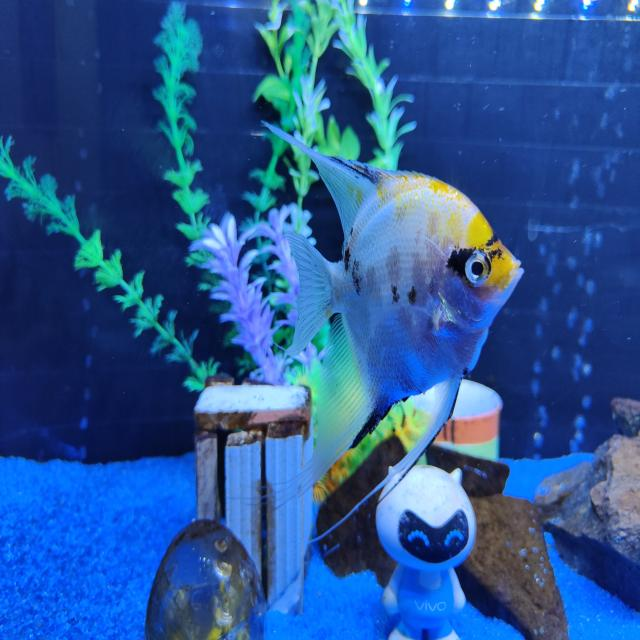Fish: (264, 123, 523, 499)
